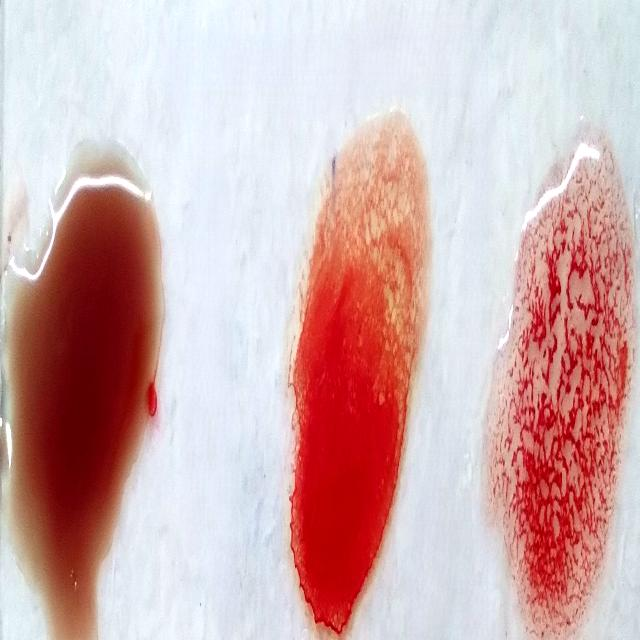B: (294, 131, 410, 631)
D: (507, 157, 628, 634)
